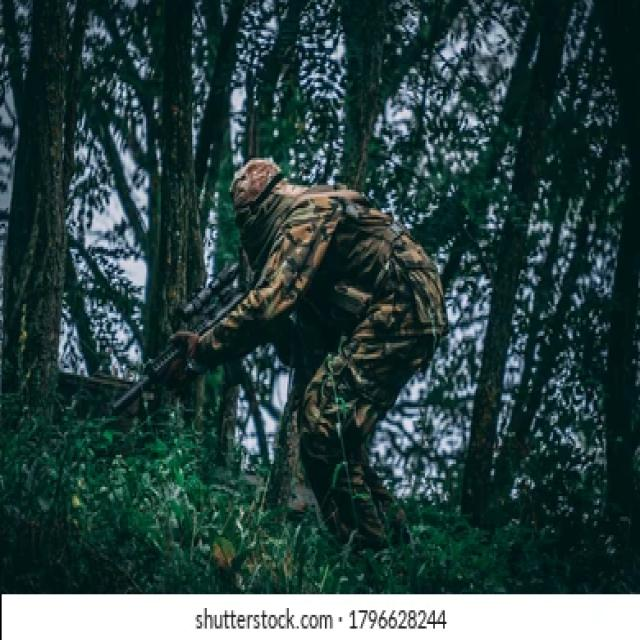soldier: (126, 150, 457, 569)
